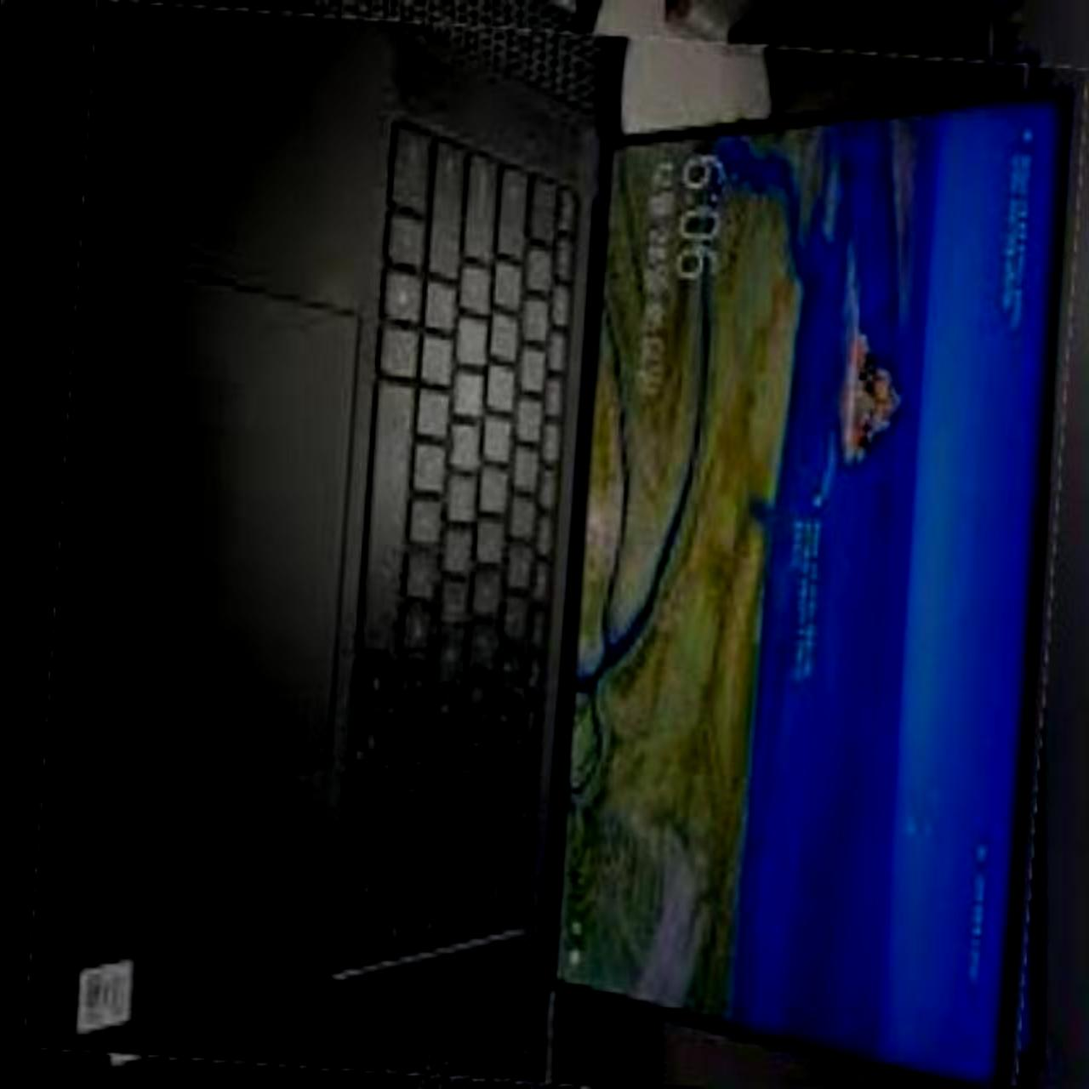laptop: (43, 17, 1070, 1089)
